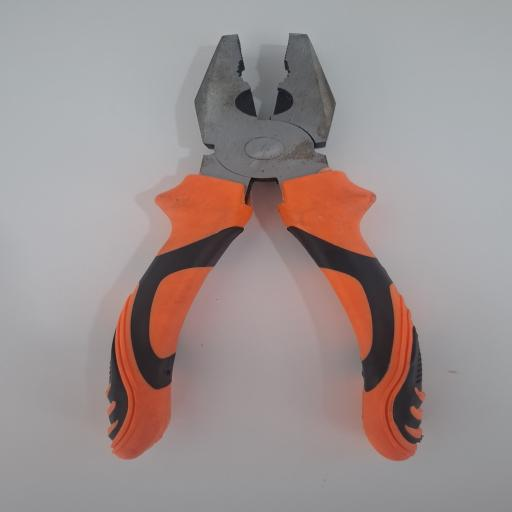alicate: (101, 33, 426, 461)
